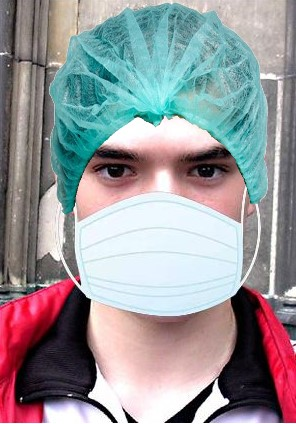with_mask_and_cap: (49, 4, 267, 315)
